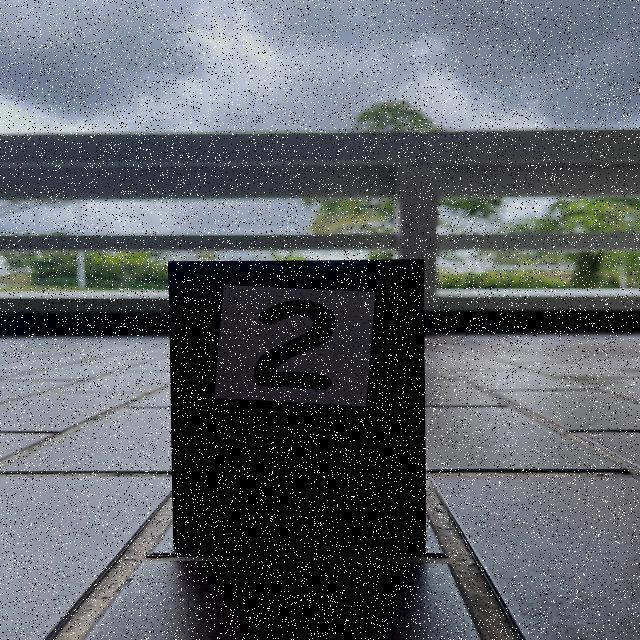Y_id34: (220, 285, 379, 407)
